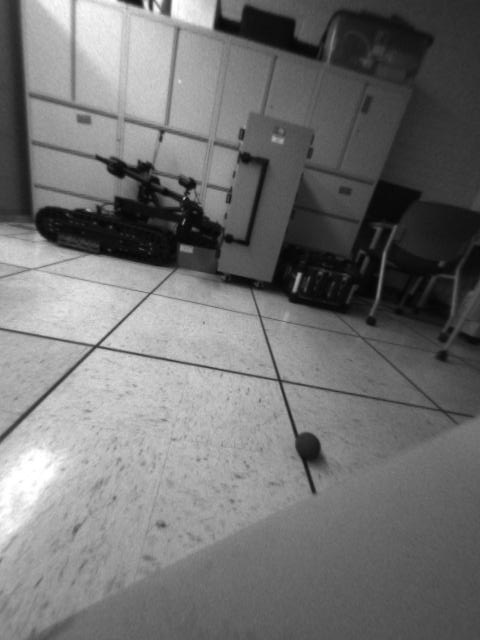dogtoy: (288, 425, 330, 464)
